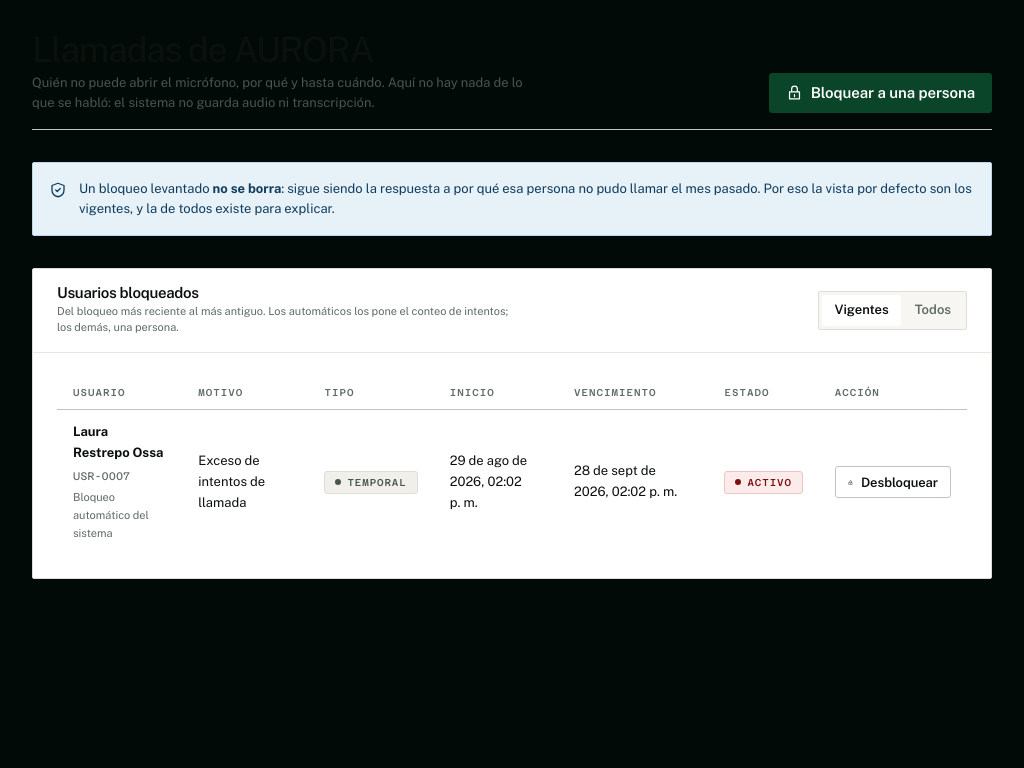
LlamadasAurora › cuando el desbloqueo sí surtió efecto no aparece ninguna advertencia
Click the button "Desbloquear".
click(893, 482)  # box x1=835 y1=466 x2=951 y2=498
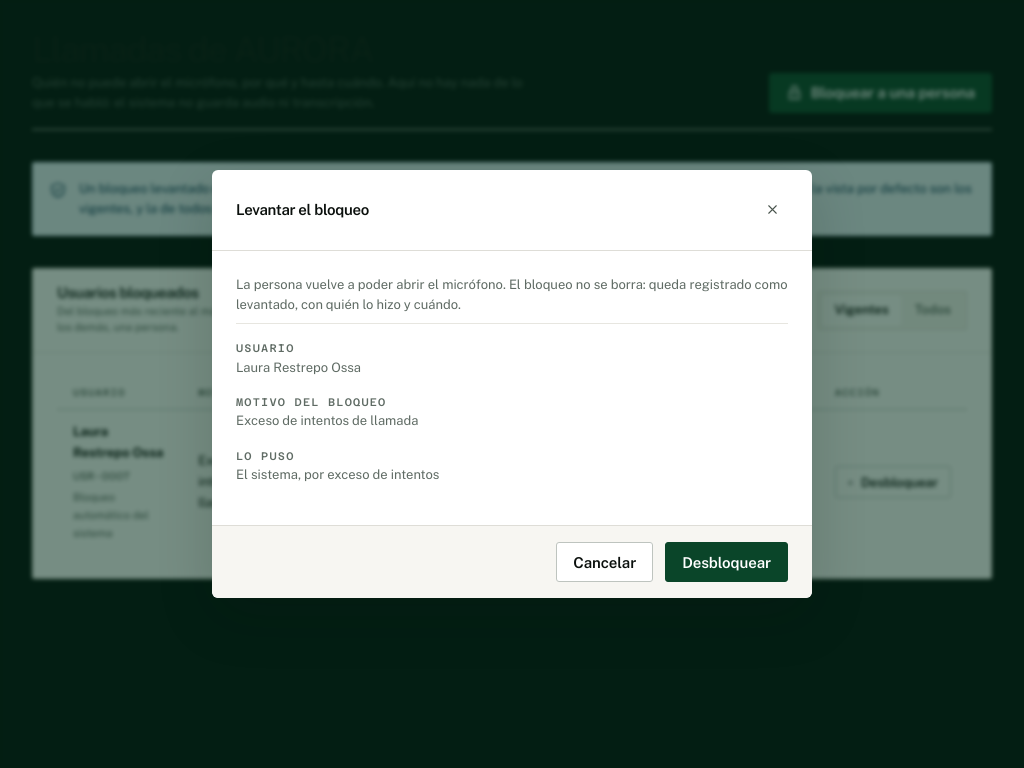
Click the button "Desbloquear".
click(727, 562)  # box x1=665 y1=542 x2=788 y2=582
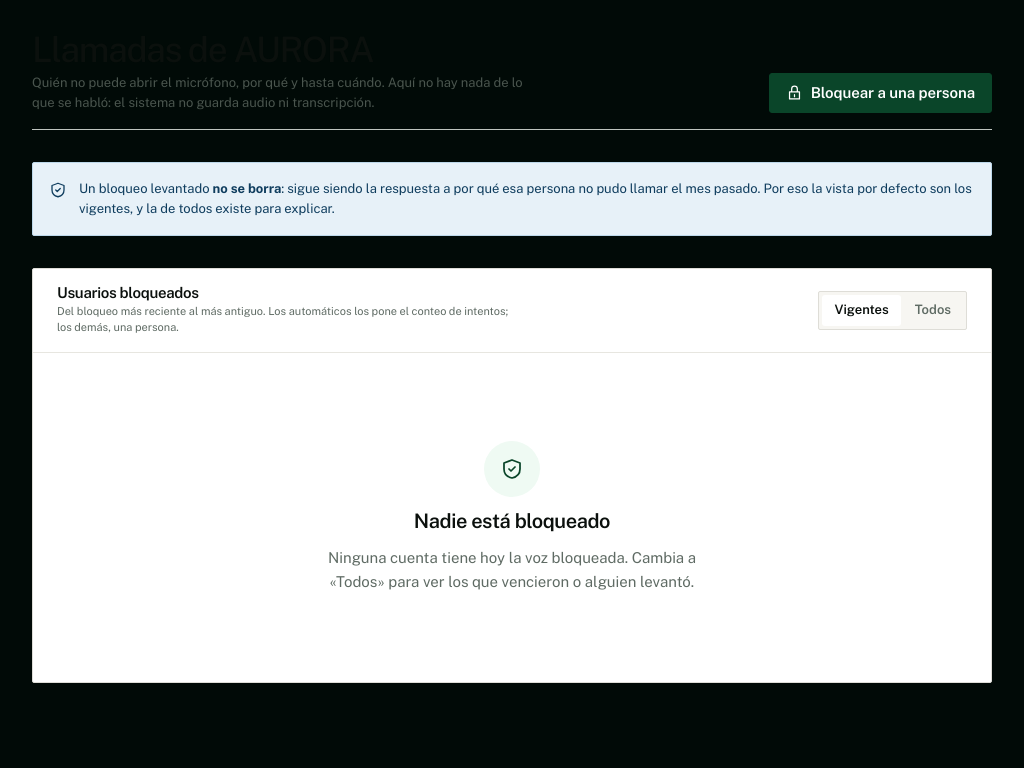
Result: the dialog is gone
